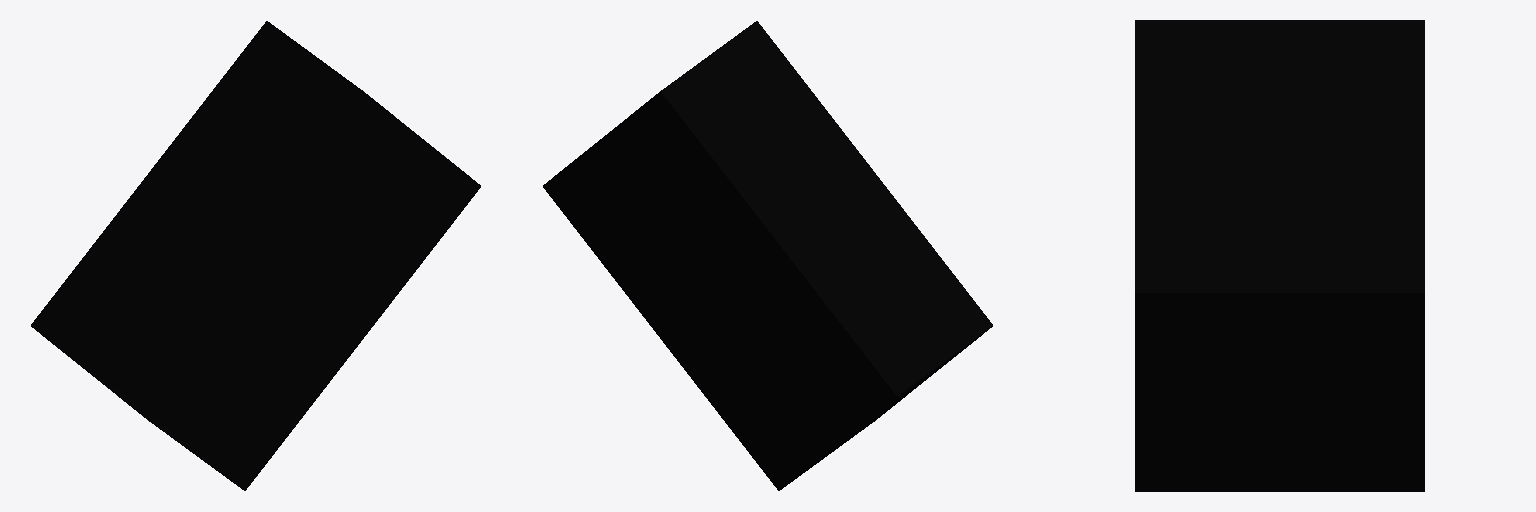
robot.urdf — luxtac_cuboid_deg45:
<?xml version="1.0"?>
<!-- cuboid, long axis at 45 deg in the pad plane.
     Generated by scripts/make_luxtac_objs.py. Metres, centred on x,y, cross-section
     centre at z = 0.0452 (the pad centre once staged). Long axis at 45 deg in
     the x-z plane: 0 = along the finger, 90 = across it. Length 40mm,
     mass 1.500000 kg.

     The link is named 'cube' because TacSL resolves the indenter link by name. -->
<robot name="luxtac_cuboid_deg45">
    <link name="cube">
        <visual>
            <geometry><mesh filename="../mesh/luxtac_cuboid_deg45.obj"/></geometry>
            <material name="black"><color rgba="0.05 0.05 0.05 1"/></material>
        </visual>
        <collision>
            <geometry><mesh filename="../mesh/luxtac_cuboid_deg45.obj"/></geometry>
            <sdf resolution="256"/>  <!-- 0.166mm voxels -->
        </collision>
        <inertial>
            <origin rpy="0 0 0" xyz="0 0 0.0452"/>
            <mass value="1.500000"/>
            <inertia ixx="1.750000e-04" ixy="0" ixz="0" iyy="2.500000e-04" iyz="0" izz="1.750000e-04"/>
        </inertial>
    </link>
</robot>

--- Render facts (derived) ---
The picture shows the robot from 3 angles, left to right: view 1: azimuth 30°, elevation 25°; view 2: azimuth 150°, elevation 25°; view 3: azimuth 270°, elevation 25°; orthographic projection.
Model luxtac_cuboid_deg45 with 1 links and 0 joints (none), rooted at cube, posed every joint at zero.
Links seen in each view (by area): view 1: cube; view 2: cube; view 3: cube.
Boxes of the visible links, x1,y1,x2,y2 form: cube: [31, 21, 480, 490]; cube: [543, 21, 992, 490]; cube: [1135, 20, 1424, 491].
Bounding box of the posed robot: 0.0424 × 0.02 × 0.0424 m (x, y, z).
Meshes: 1 distinct files referenced, 1 mesh visuals loaded (1 OBJ).
